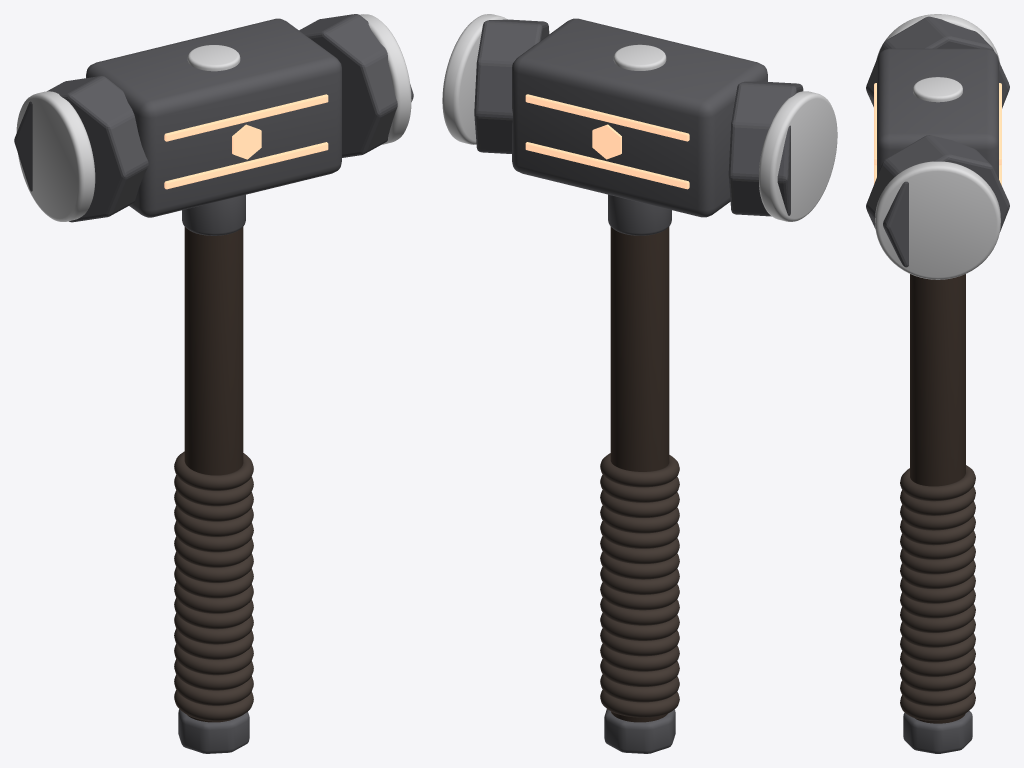
Rendered from hammer.glb.
The picture shows the model from 3 angles, left to right: view 1: azimuth 30°, elevation 25°; view 2: azimuth 150°, elevation 25°; view 3: azimuth 270°, elevation 25°; orthographic projection. The views are drawn at different scales.
Parts seen in each view (by area): view 1: Cube, Cylinder, Cylinder.003, Cylinder.005, Cylinder.004, Cylinder.001, Cylinder.006, Cylinder.002, Cube.001, Cube.002, Torus.015, Torus.006 (+16 smaller); view 2: Cube, Cylinder, Cylinder.004, Cylinder.003, Cylinder.005, Cylinder.006, Cylinder.001, Cylinder.002, Cube.004, Cube.003, Torus.015, Torus.004 (+16 smaller); view 3: Cylinder, Cube, Cylinder.006, Cylinder.005, Cylinder.003, Cylinder.001, Torus.015, Torus.001, Torus.007, Torus.004, Torus.011, Torus.014 (+12 smaller).
Part boxes in pixels (bbox=[...]): Cube: bbox=[86, 18, 341, 217]; Cylinder: bbox=[184, 227, 243, 722]; Cylinder.003: bbox=[14, 76, 148, 222]; Cylinder.005: bbox=[299, 14, 413, 157]; Cylinder.004: bbox=[16, 91, 95, 221]; Cylinder.001: bbox=[178, 709, 249, 753]; Cylinder.006: bbox=[359, 14, 411, 144]; Cylinder.002: bbox=[182, 194, 245, 235]; Cube.001: bbox=[164, 142, 328, 189]; Cube.002: bbox=[164, 94, 328, 141]; Torus.015: bbox=[174, 451, 253, 490]; Torus.006: bbox=[174, 598, 253, 629]; Cube: bbox=[512, 18, 767, 217]; Cylinder: bbox=[610, 227, 669, 722]; Cylinder.004: bbox=[759, 91, 837, 221]; Cylinder.003: bbox=[728, 81, 803, 216]; Cylinder.005: bbox=[474, 19, 549, 153]; Cylinder.006: bbox=[442, 14, 507, 144]; Cylinder.001: bbox=[604, 709, 675, 753]; Cylinder.002: bbox=[608, 194, 671, 235]; Cube.004: bbox=[525, 94, 689, 141]; Cube.003: bbox=[525, 142, 689, 189]; Torus.015: bbox=[600, 453, 679, 487]; Torus.004: bbox=[600, 628, 679, 656]; Cylinder: bbox=[910, 274, 965, 723]; Cube: bbox=[877, 48, 998, 178]; Cylinder.006: bbox=[875, 161, 1000, 279]; Cylinder.005: bbox=[866, 135, 1009, 267]; Cylinder.003: bbox=[866, 16, 1009, 108]; Cylinder.001: bbox=[903, 710, 972, 753]; Torus.015: bbox=[900, 465, 975, 501]; Torus.001: bbox=[900, 677, 975, 706]; Torus.007: bbox=[900, 589, 975, 618]; Torus.004: bbox=[900, 633, 975, 662]; Torus.011: bbox=[900, 530, 975, 559]; Torus.014: bbox=[900, 486, 975, 515].
Size of the model in its own units: 1.06 by 2.01 by 0.4004.
